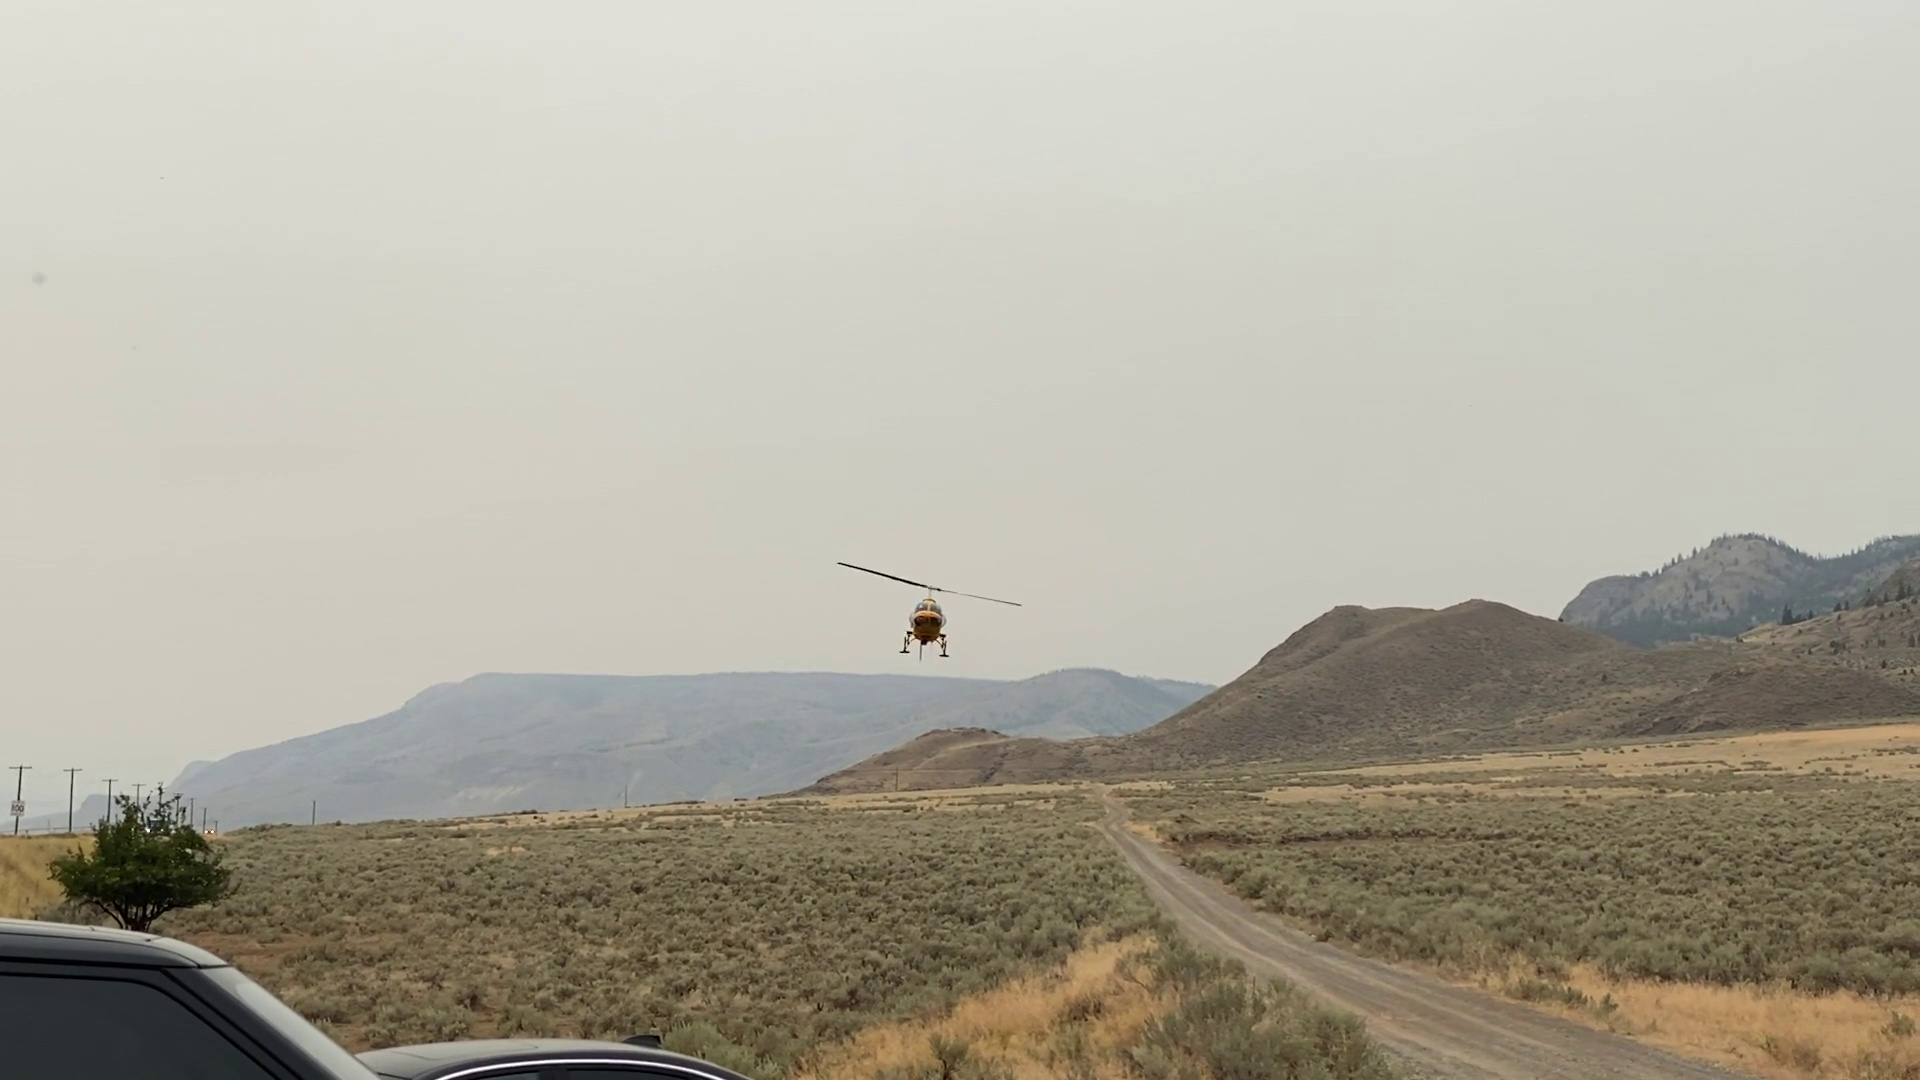heli: (835, 559, 1025, 659)
